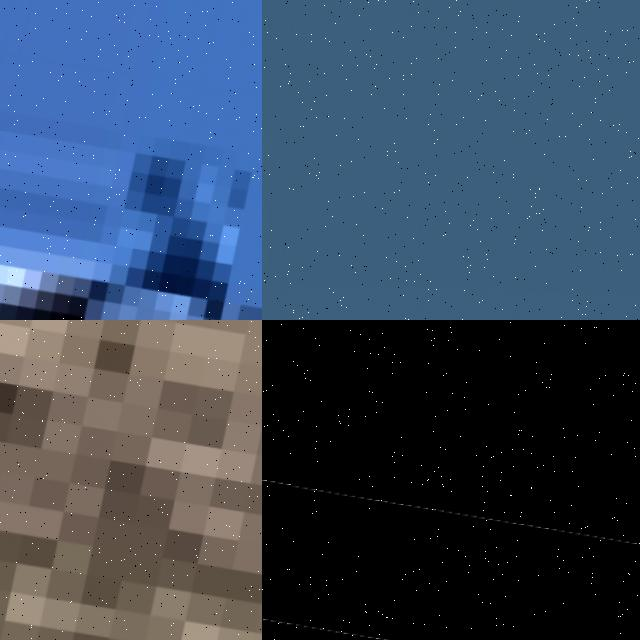drone: (0, 0, 262, 320), (0, 320, 262, 640), (262, 479, 640, 640)
